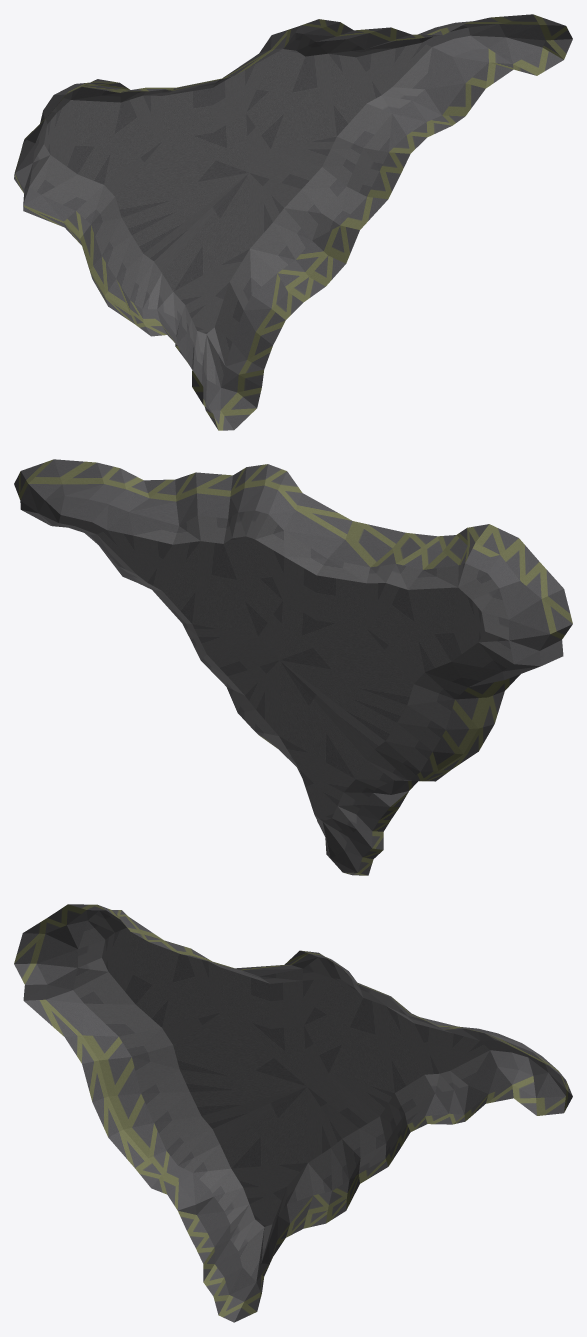
File: island_10_0.fbx
The picture shows the model from 3 angles, top to bottom: view 1: azimuth 30°, elevation 25°; view 2: azimuth 150°, elevation 25°; view 3: azimuth 330°, elevation 25°; orthographic projection.
Parts seen in each view (by area): view 1: Circle.022; view 2: Circle.022; view 3: Circle.022.
Part boxes in pixels (x1,y1,x2,y2): Circle.022: (14, 14, 572, 430); Circle.022: (14, 459, 572, 875); Circle.022: (14, 904, 572, 1322).
Bounding box in the file's own units: 14161 × 9456 × 1283.
